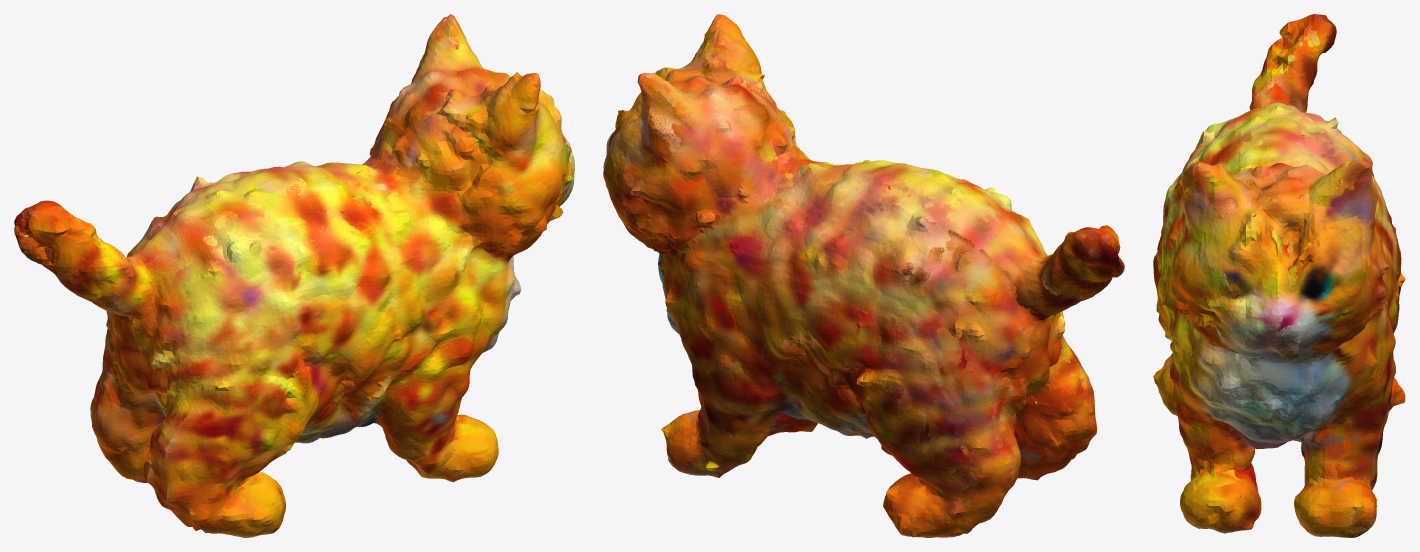
Rendered from corgi_nurse_mesh.glb.
The picture shows the model from 3 angles, left to right: view 1: azimuth 30°, elevation 25°; view 2: azimuth 150°, elevation 25°; view 3: azimuth 270°, elevation 25°; orthographic projection.
Bounding box in the file's own units: 2.17 × 1.56 × 0.8841.
Materials: 1 (1 with a texture image).
